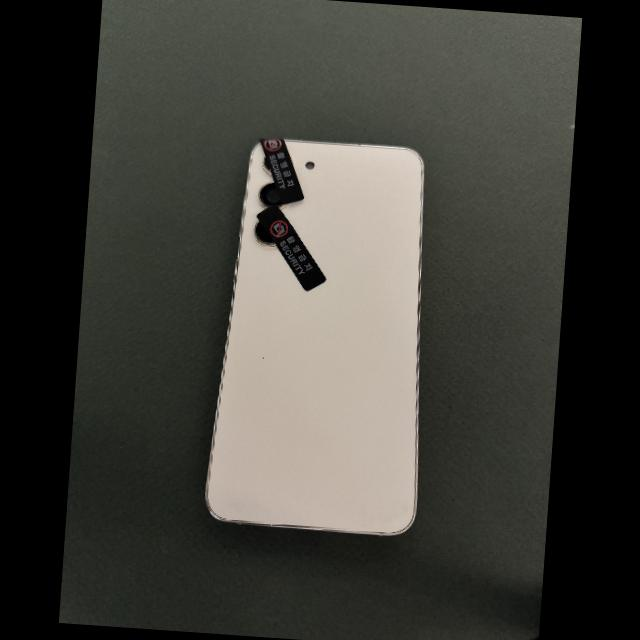lens: (259, 183, 283, 208), (253, 220, 276, 246), (263, 157, 271, 175)
phone: (205, 135, 423, 535)
sticker: (256, 205, 326, 291), (258, 138, 304, 204)
